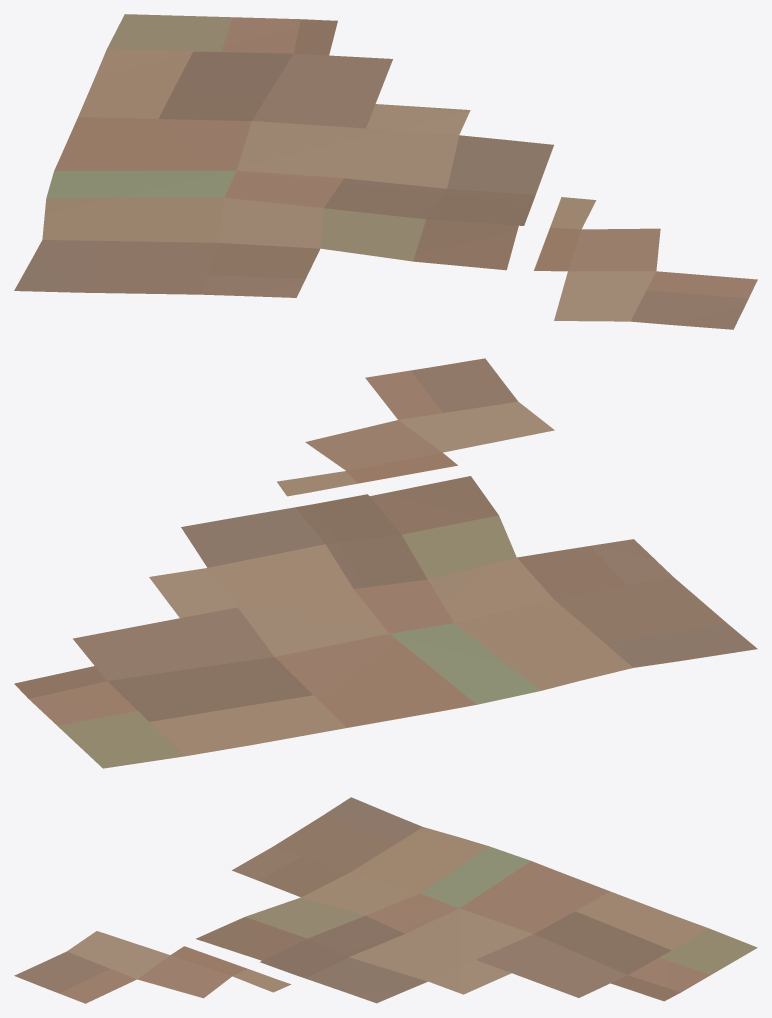
Rendered from farm_-37_-39_soil.glb.
3 renders of one model, top to bottom at view 1: azimuth 30°, elevation 25°; view 2: azimuth 150°, elevation 25°; view 3: azimuth 270°, elevation 25°, orthographic. The views are drawn at different scales.
Visible parts, largest first — view 1: geometry_0; view 2: geometry_0; view 3: geometry_0.
Boxes of the visible parts, box(x1,y1,x2,y2) form: geometry_0: box(14, 14, 757, 329); geometry_0: box(14, 358, 757, 768); geometry_0: box(14, 797, 757, 1003).
Bounding box in the file's own units: 190 × 5.88 × 287.
